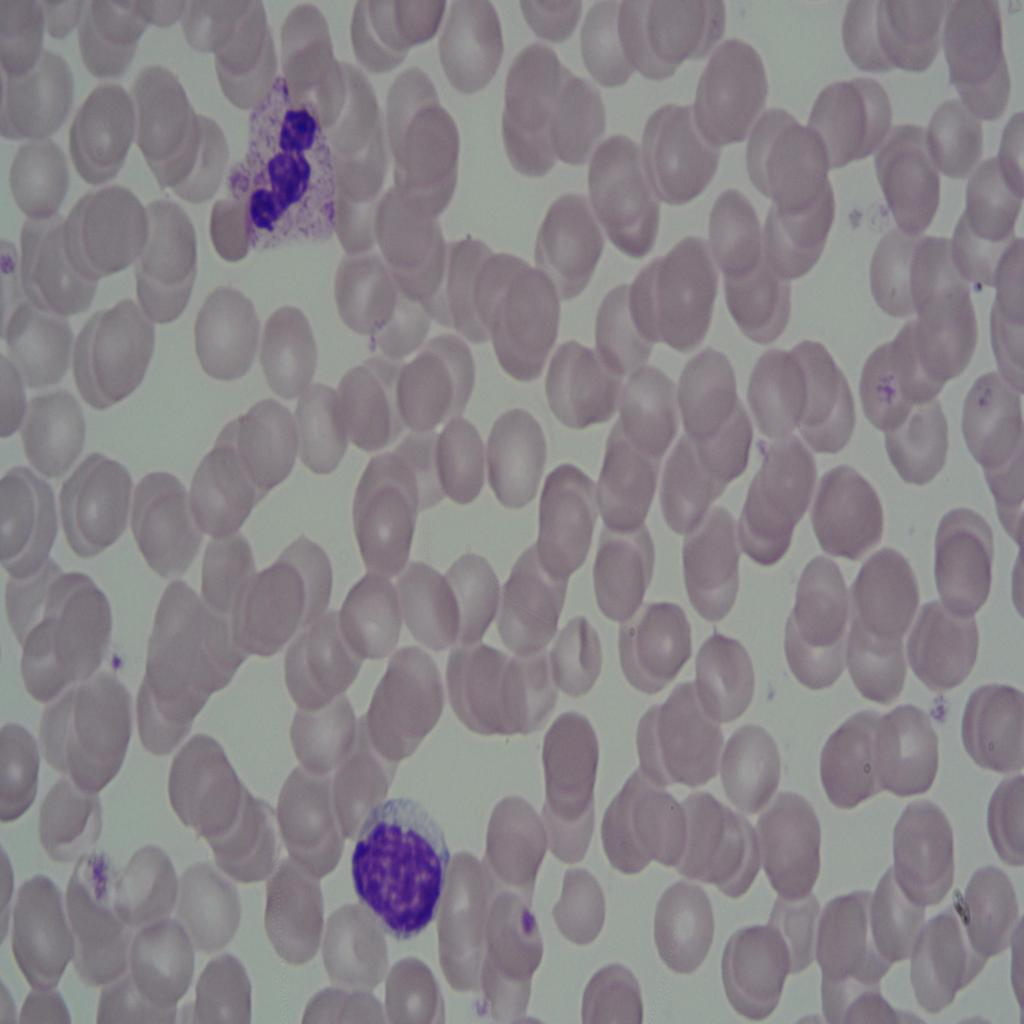Myeoblast: (350, 768, 460, 946)
Neutrofil: (222, 85, 350, 249)
Platelet: (510, 894, 543, 937), (103, 634, 132, 674)
